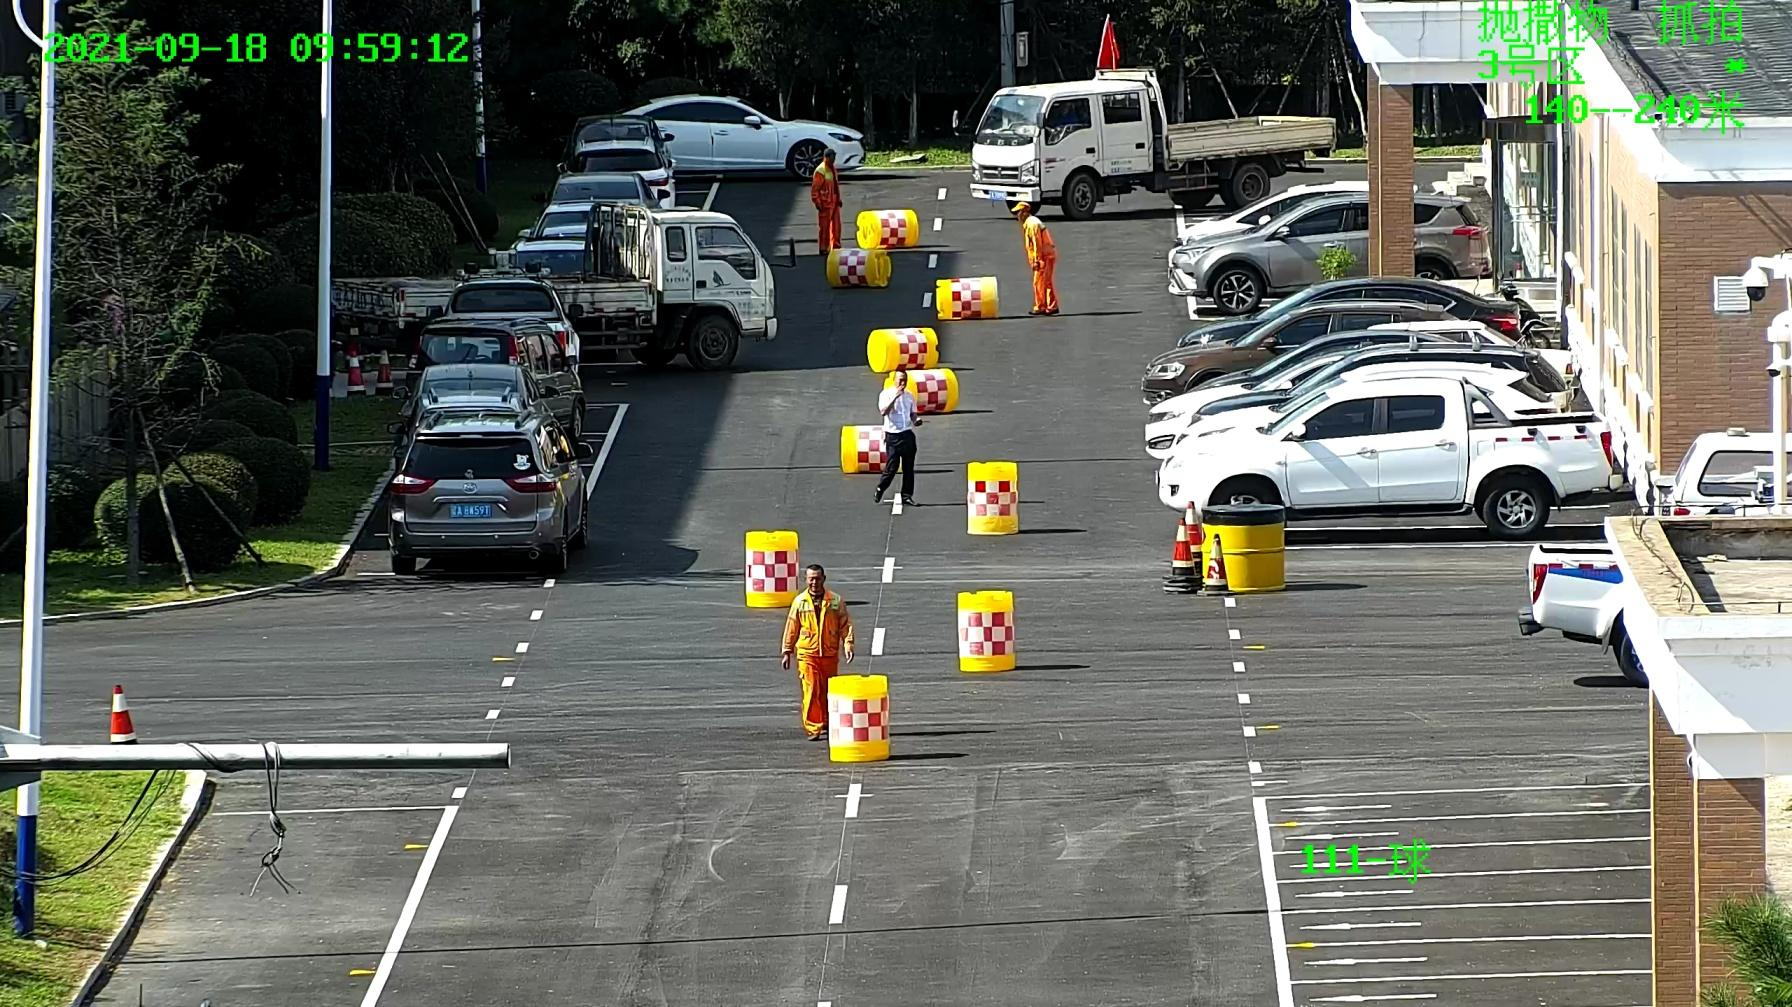cone_barrel: (1196, 505, 1284, 594), (826, 676, 890, 763), (956, 590, 1015, 673), (743, 533, 798, 610), (966, 462, 1016, 536), (881, 372, 955, 415), (867, 328, 934, 372), (937, 275, 997, 321), (839, 425, 893, 472), (826, 247, 889, 287), (853, 210, 922, 246)
